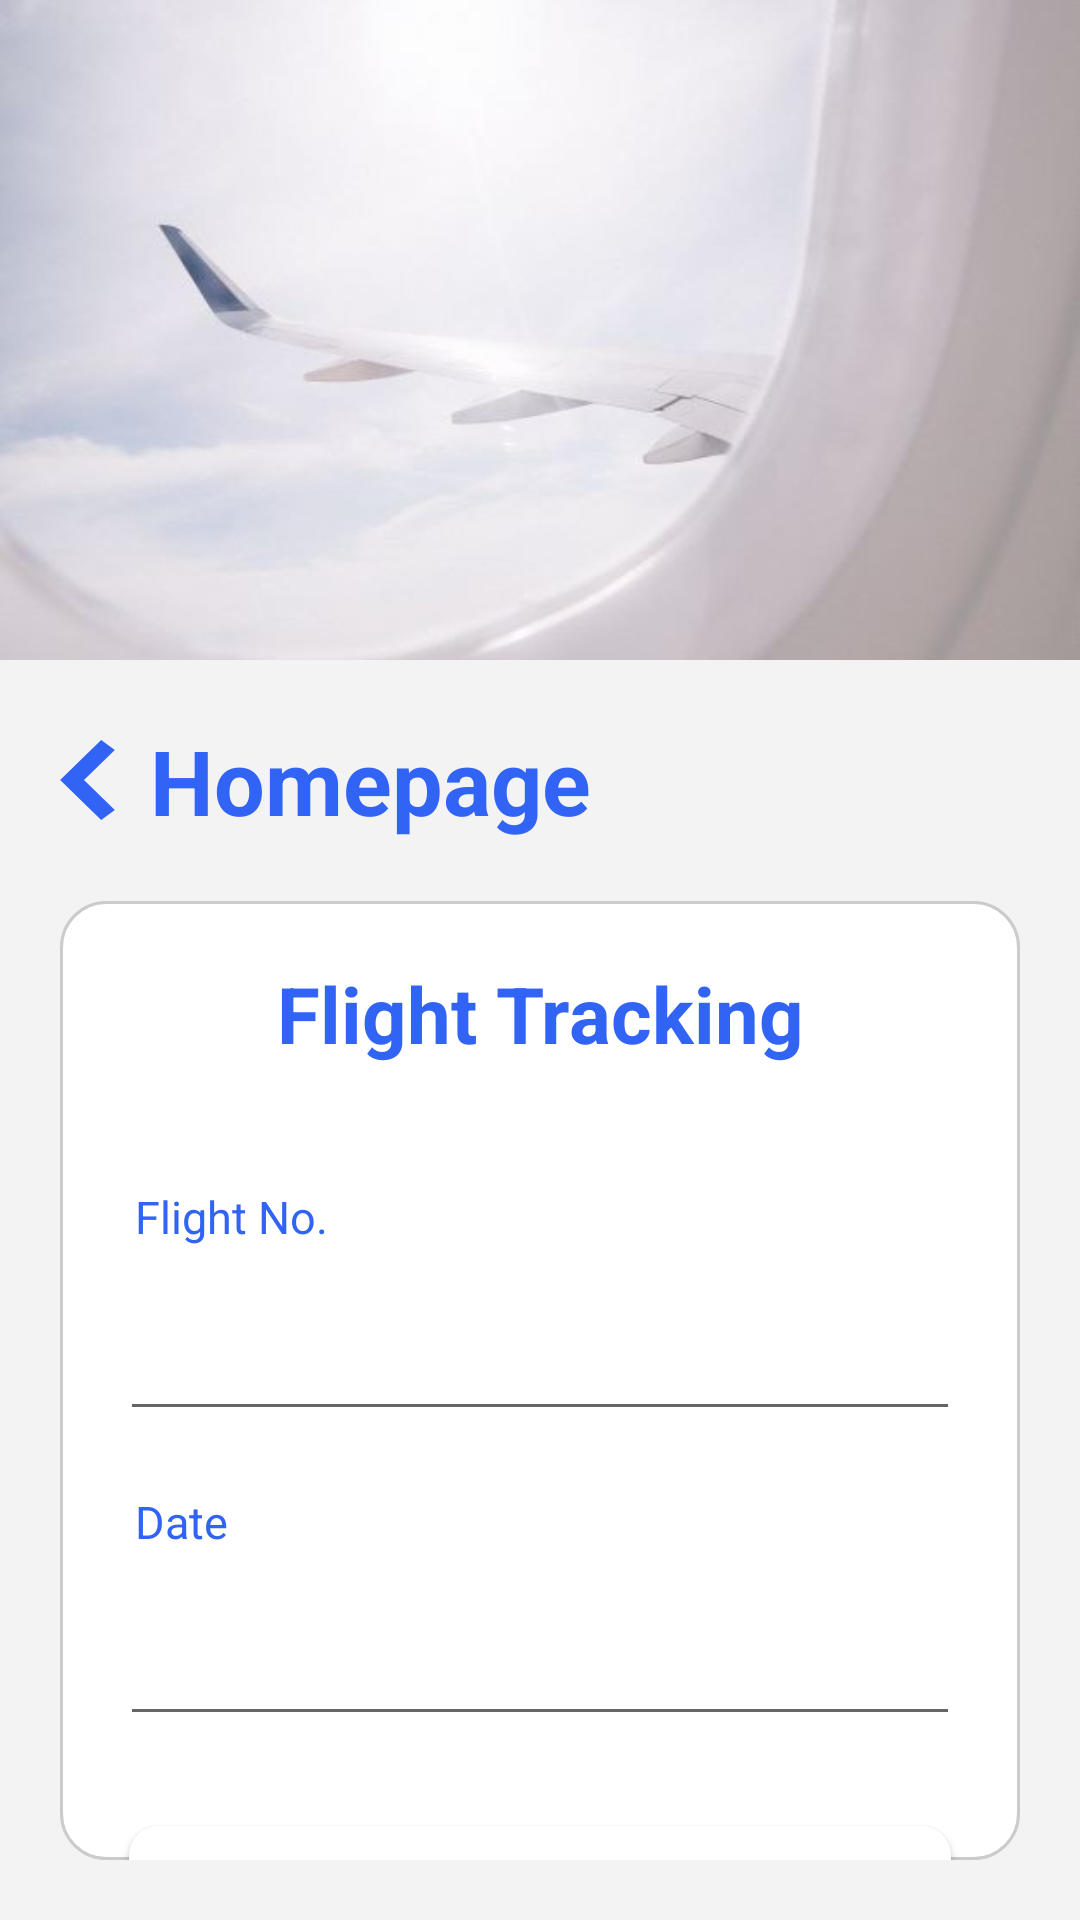

Named icons in this screenshot (1080 × 1920) and their centers, [x,y]:
back: [87,780]
